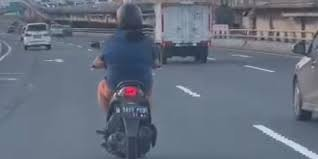mobil: (20, 18, 52, 53)
motor: (97, 81, 157, 159)
